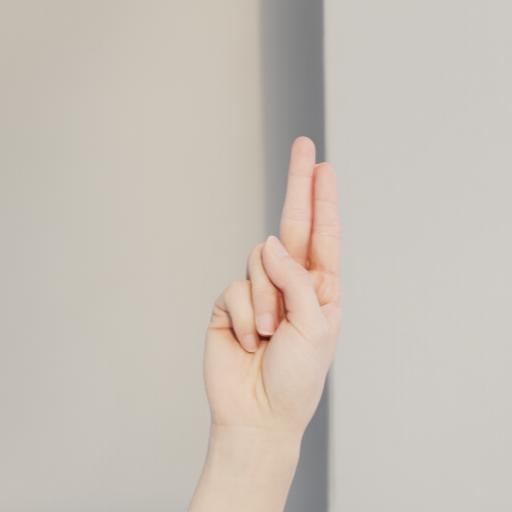U: (195, 128, 354, 448)
